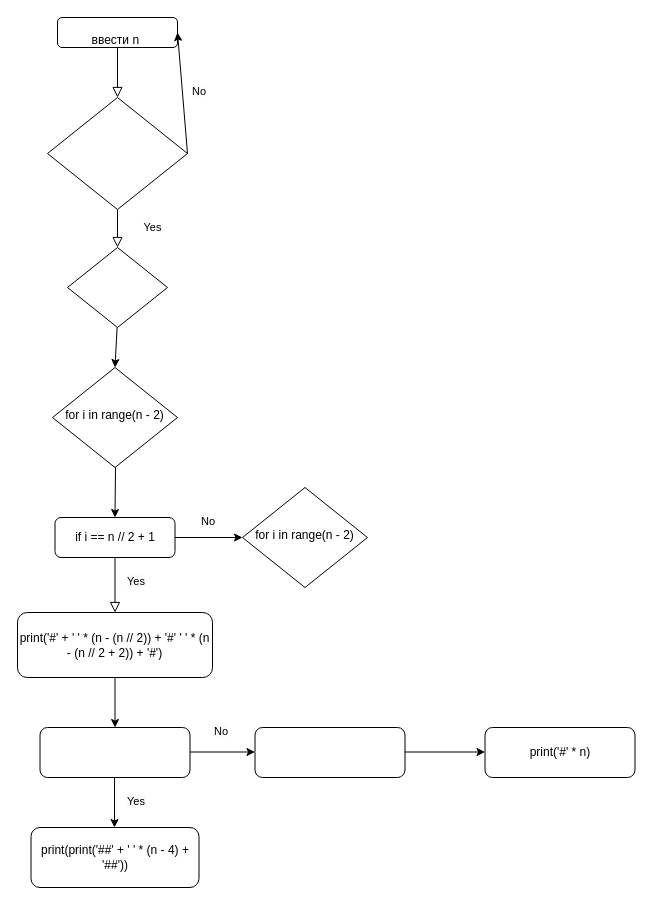
This 653x905 diagram has some shape labels left out. Here are the shapes that lost their labels. From the top down, the centre of each, then its label:
At point (117, 153): "if n > 0 and n % 2 != 0".
At point (117, 287): "print '#'".
At point (114, 752): "elif i == n- n - 1".
At point (329, 752): "print('#' + ' ' * (n - 2) + '#')".
